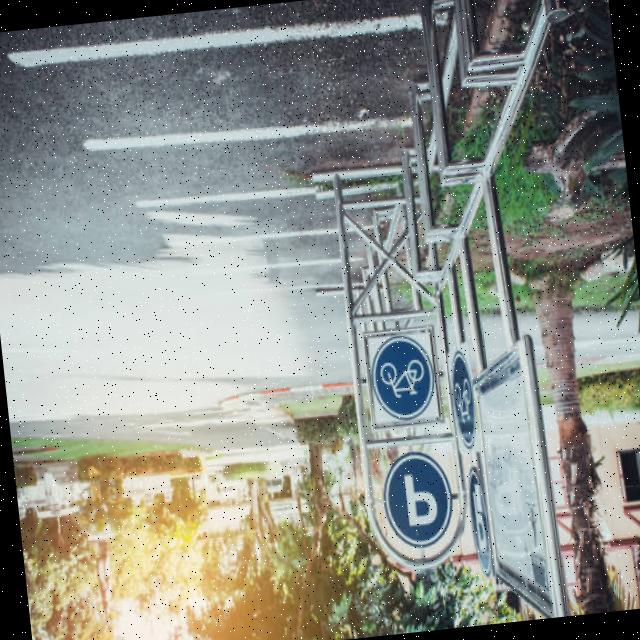bicycle: (366, 336, 436, 426), (438, 342, 496, 444)
